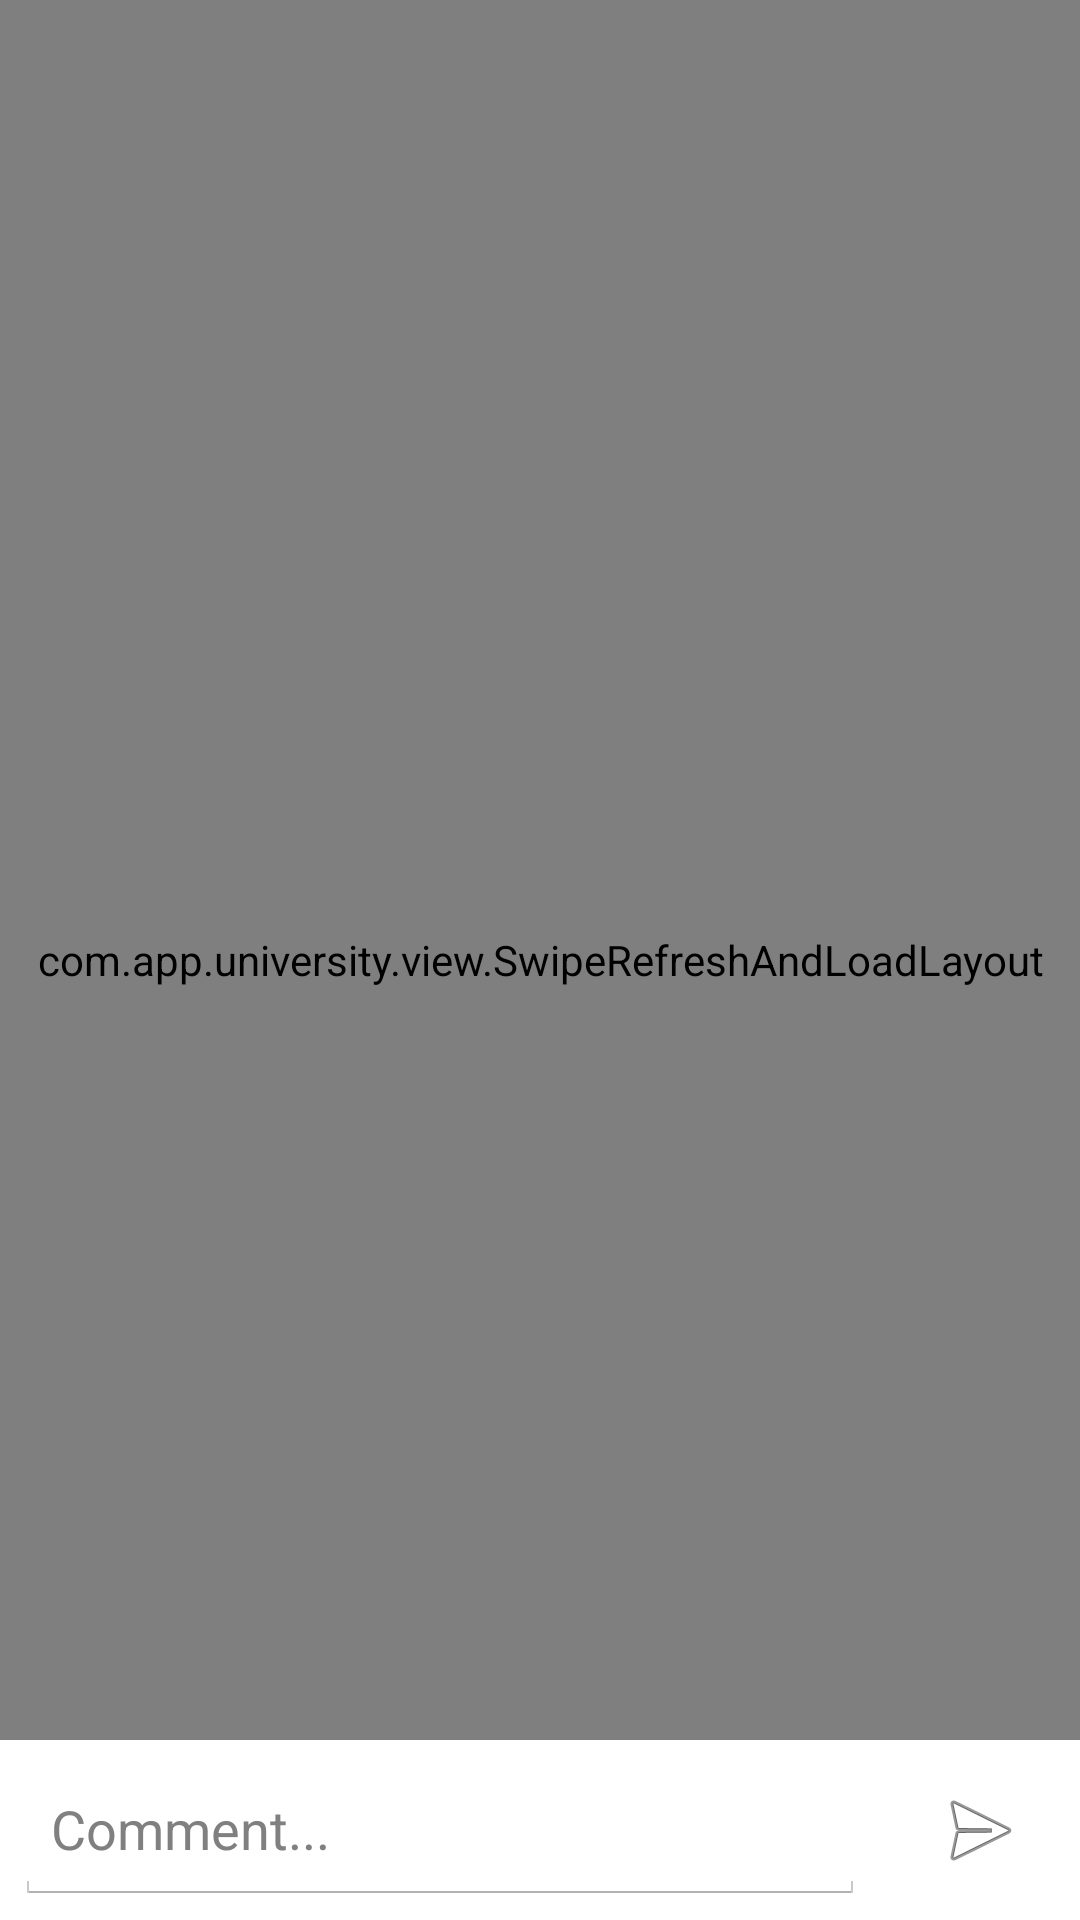

Icons on this 1080 × 1920 Android screen, each with its box as bbox=(x1, y1, x2, y2):
send: bbox=(950, 1800, 1012, 1861)
